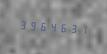four: (47, 19, 56, 34)
nine: (27, 18, 36, 32)
one: (77, 21, 86, 36)
six: (37, 18, 46, 33), (57, 20, 66, 34)
three: (17, 17, 26, 32), (67, 21, 76, 35)
